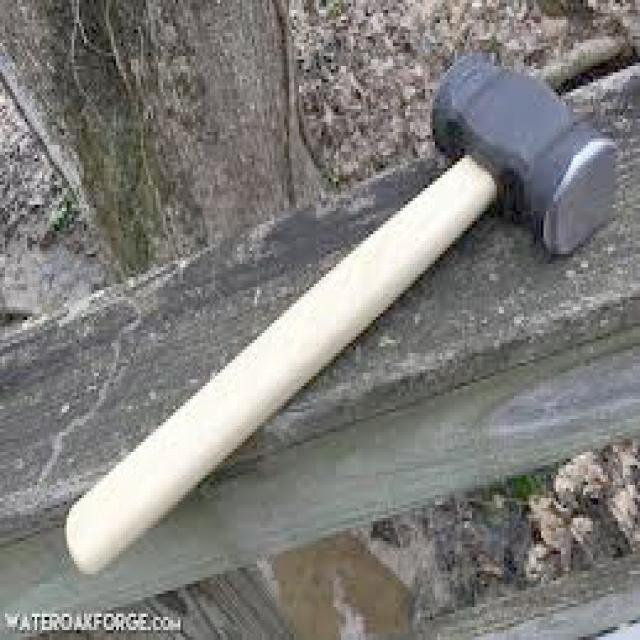hammer: (62, 48, 622, 579)
